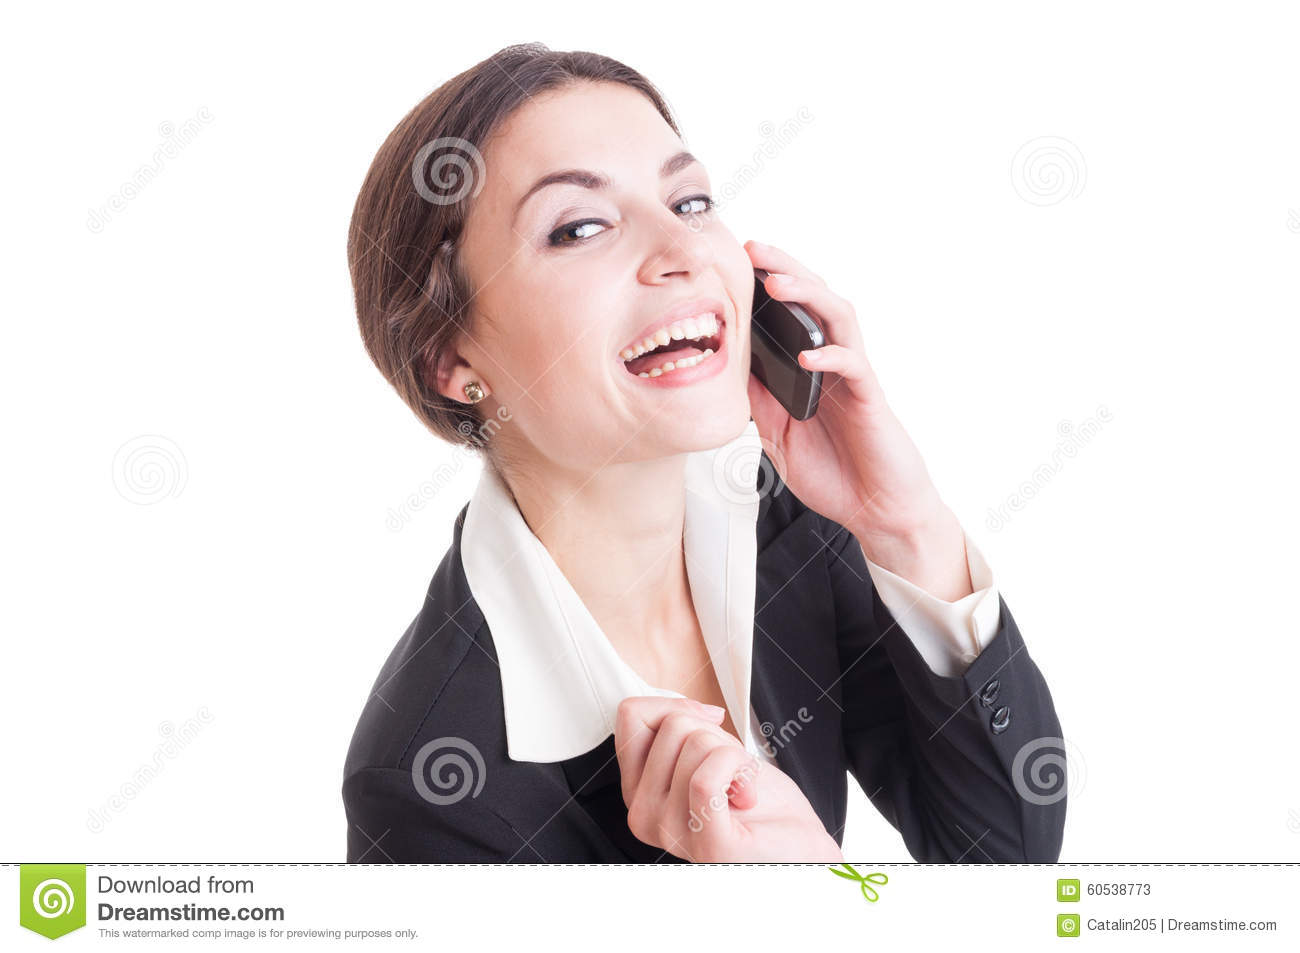smartphone: (747, 264, 824, 423)
